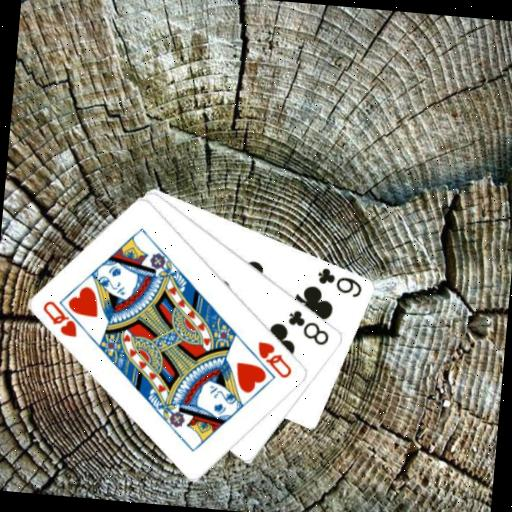6C: (313, 264, 366, 300)
8C: (284, 307, 334, 348)
QH: (38, 296, 94, 341), (253, 338, 297, 381)
